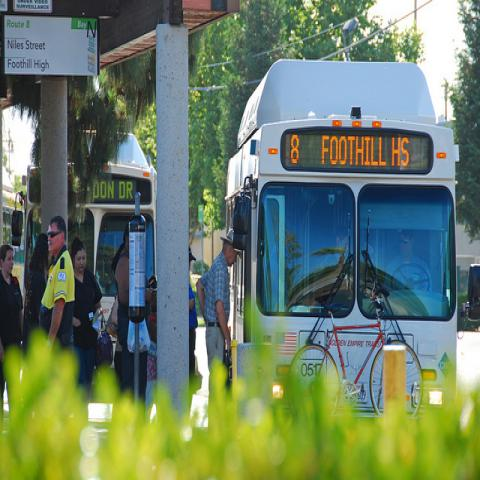bus: (225, 63, 462, 419), (11, 133, 156, 350)
